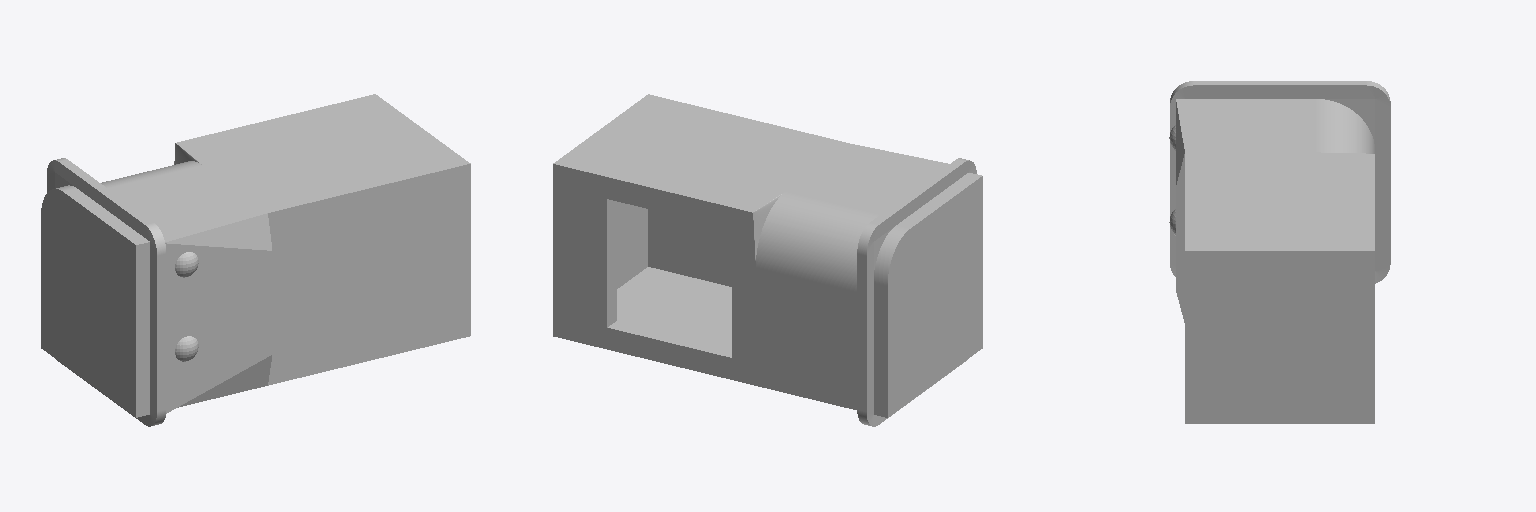
Rendered from simple_celle2.obj.
3 renders of one model, left to right at view 1: azimuth 30°, elevation 25°; view 2: azimuth 150°, elevation 25°; view 3: azimuth 270°, elevation 25°, orthographic.
Visible parts, largest first — view 1: Cube_Cube.001; view 2: Cube_Cube.001; view 3: Cube_Cube.001.
Part boxes in pixels (bbox=[...]): Cube_Cube.001: bbox=[41, 94, 470, 426]; Cube_Cube.001: bbox=[553, 94, 982, 426]; Cube_Cube.001: bbox=[1169, 81, 1390, 423].
Bounding box in the file's own units: 4.06 × 2.32 × 2.32.